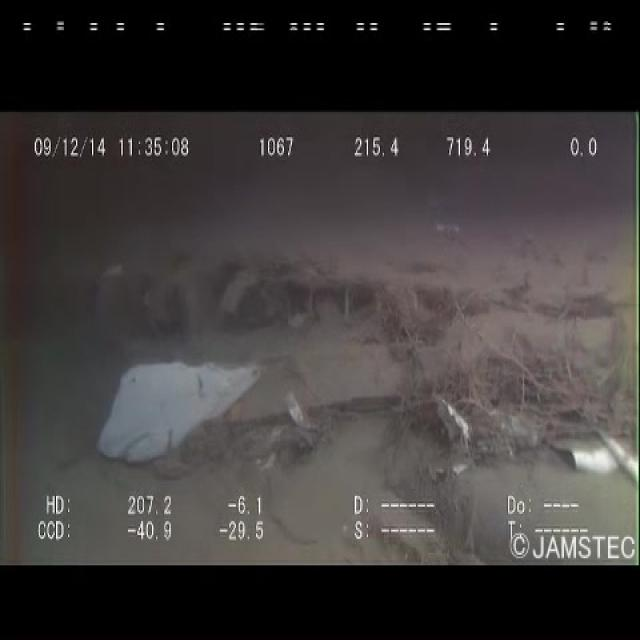plastic: (428, 386, 505, 476), (544, 414, 639, 482), (281, 384, 319, 441)
